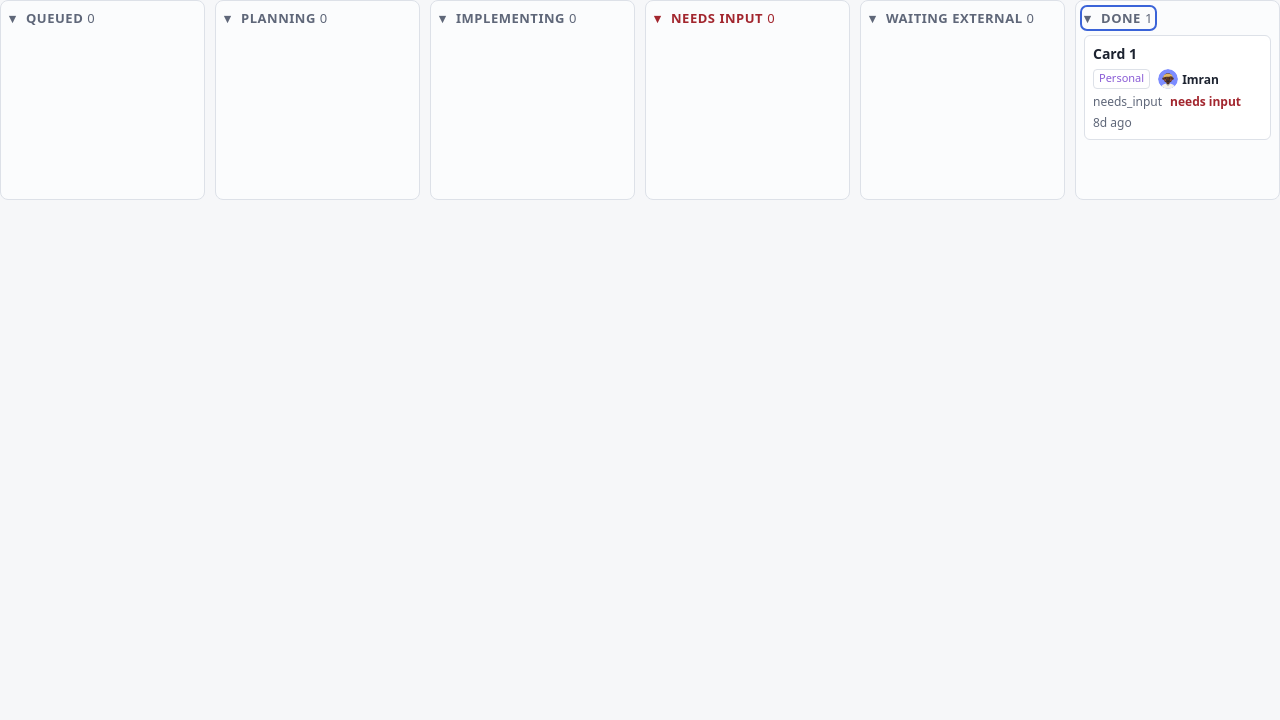
Test case: collapsible columns (UX-9) › NFR-1: each toggle is a native button that keeps focus when it toggles
Expected: the button with class "column-toggle" showing "▾ Queued 0" is enabled, [9,9,95,27]
Expected: the button with class "column-toggle" showing "▾ Planning 0" is enabled, [224,9,328,27]
Click the button with class "column-toggle" showing "▾ Done 1" at coordinates (1118, 18), box [1084,9,1153,27]
(page scrolled)
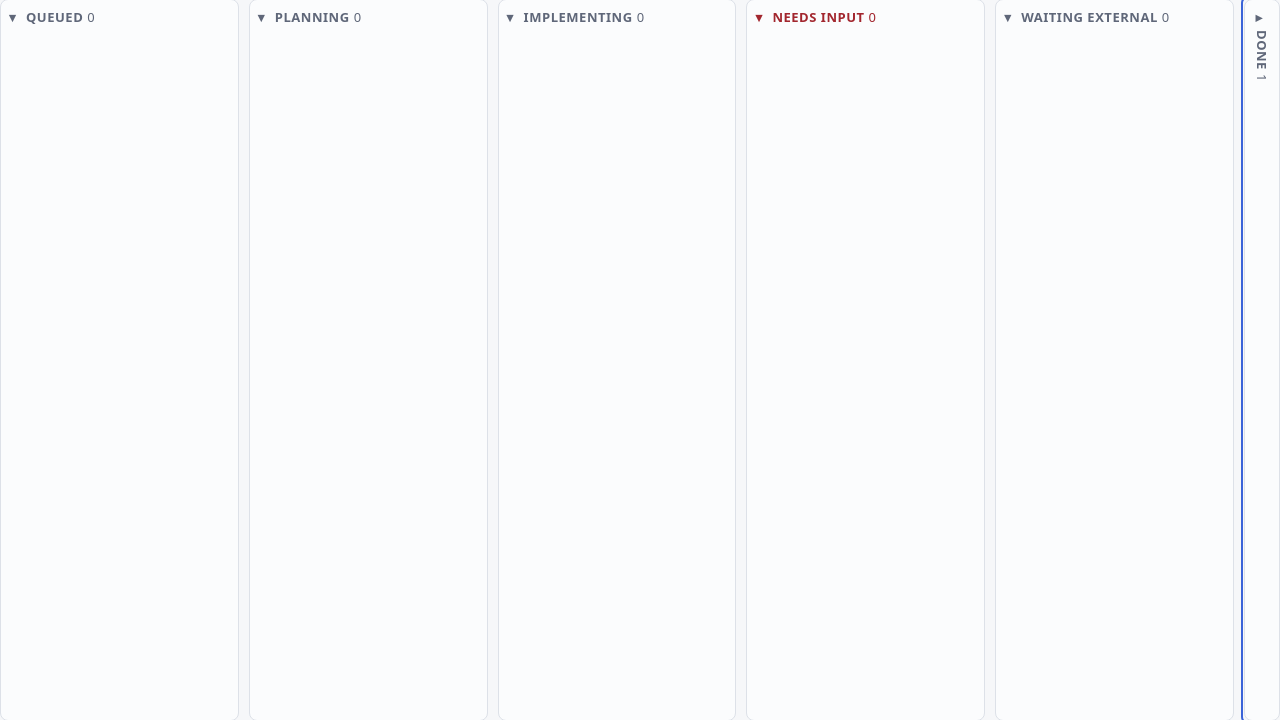
Click the button with class "column-toggle" showing "▸ Done 1" at coordinates (1262, 360), box [1245,0,1279,719]
(page scrolled)
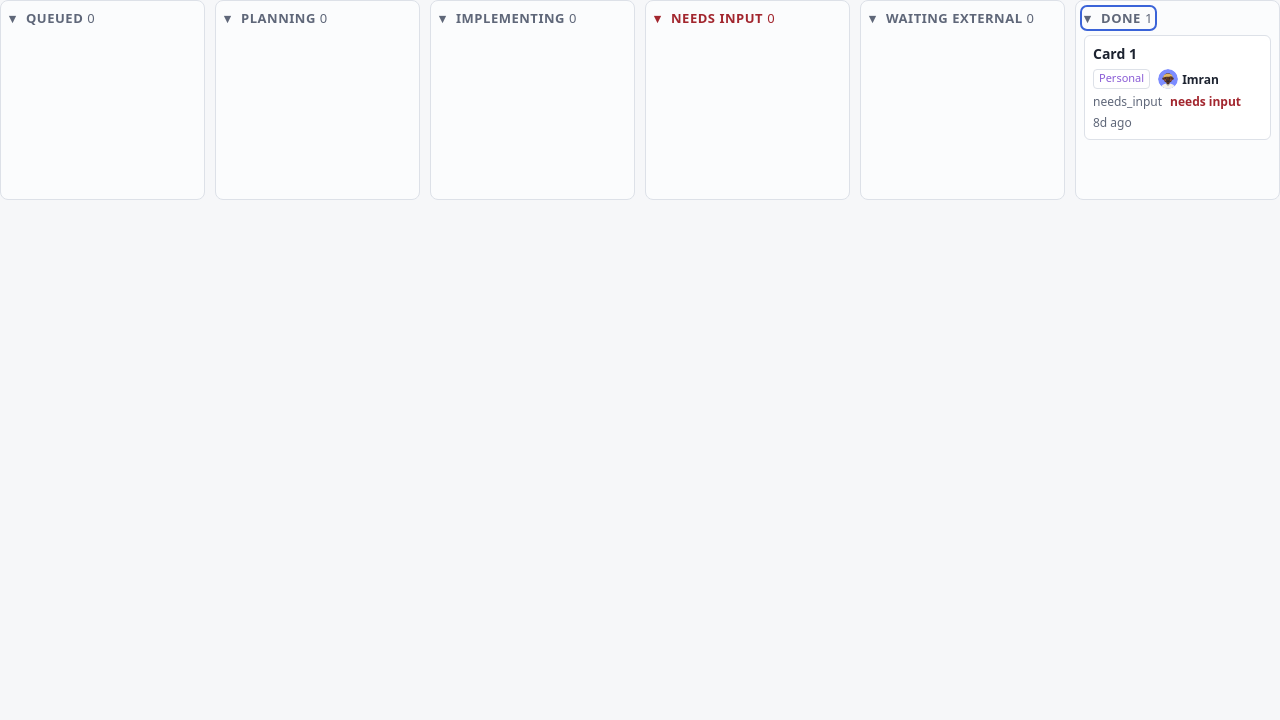
Expected: the button with class "column-toggle" is expanded, [1084,9,1153,27]
